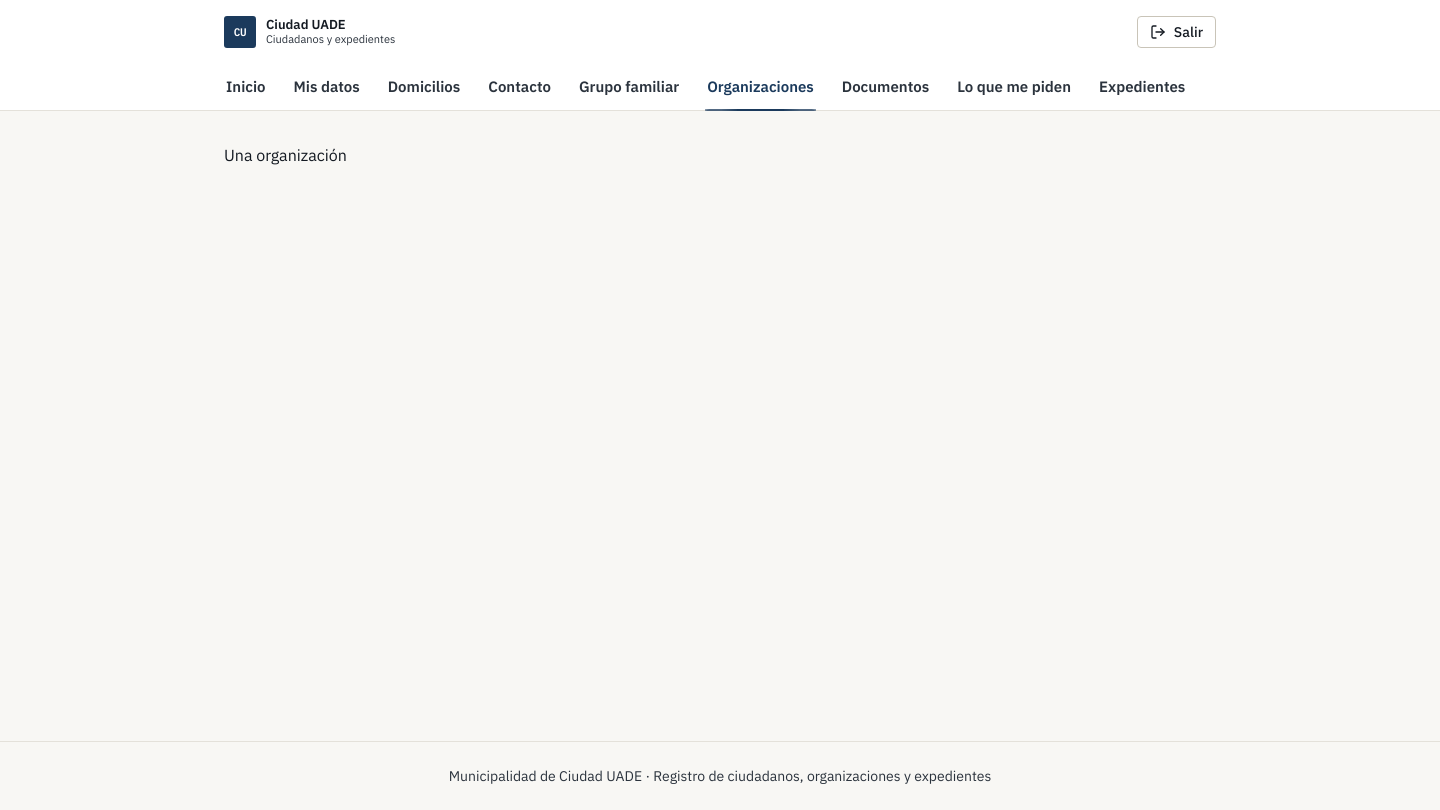
Test: LayoutPortal: cambio de sección › volver a la sección desde una de sus pantallas navega sin empujón
Click the link "Organizaciones" at [761, 86], box [707,77,814,96]
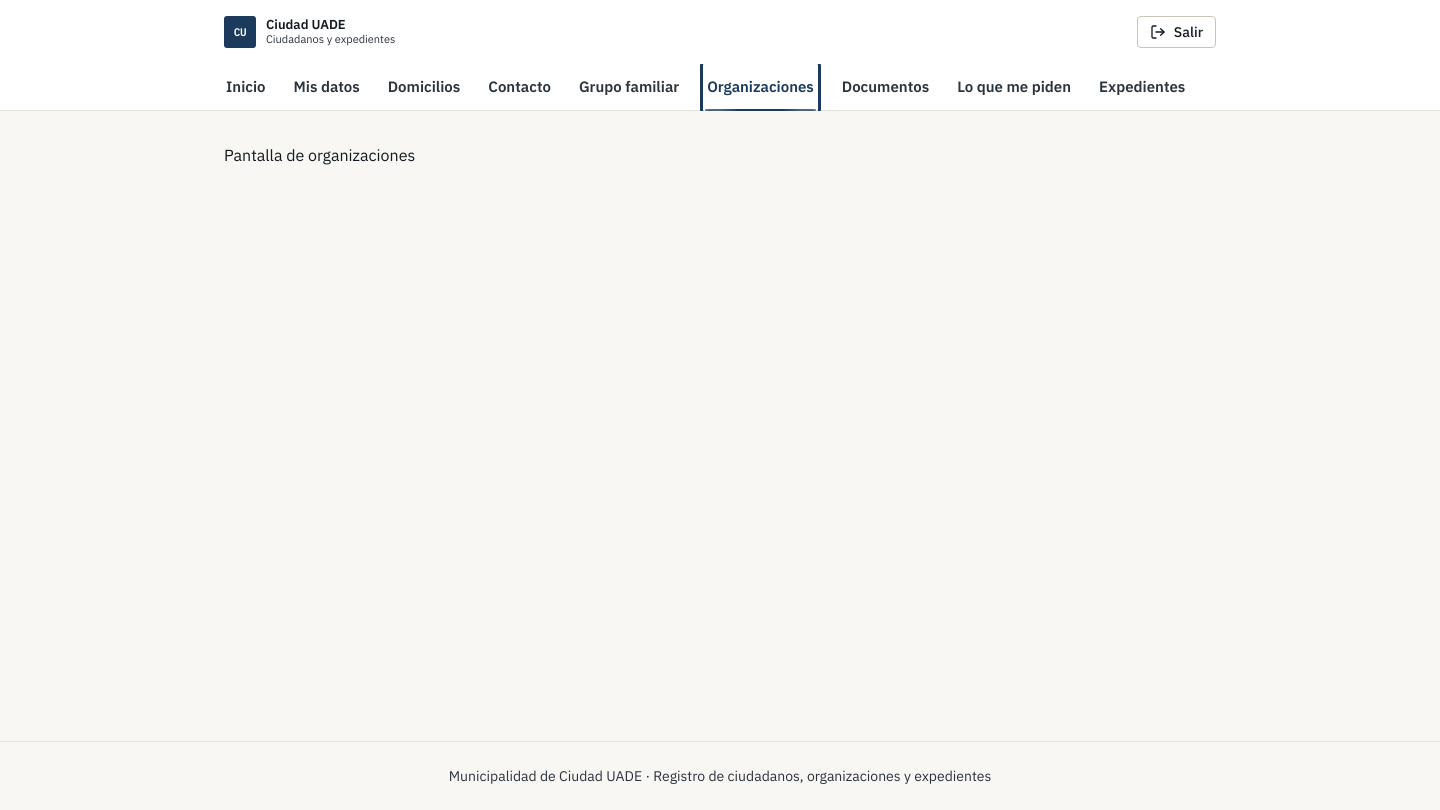
Now the text "Pantalla de organizaciones" is shown, box [224,144,415,164]
